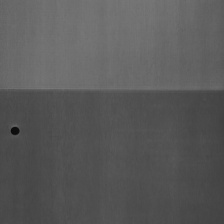welding_line: (0, 81, 224, 97), (8, 121, 23, 137)
